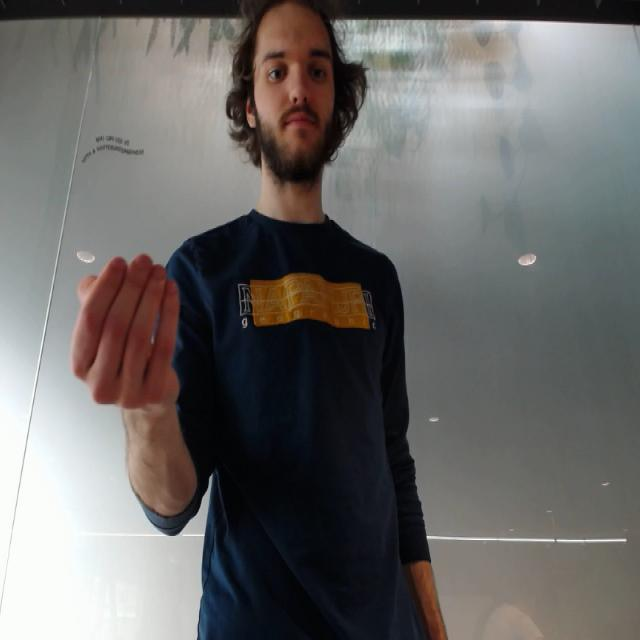forward: (66, 248, 186, 418)
